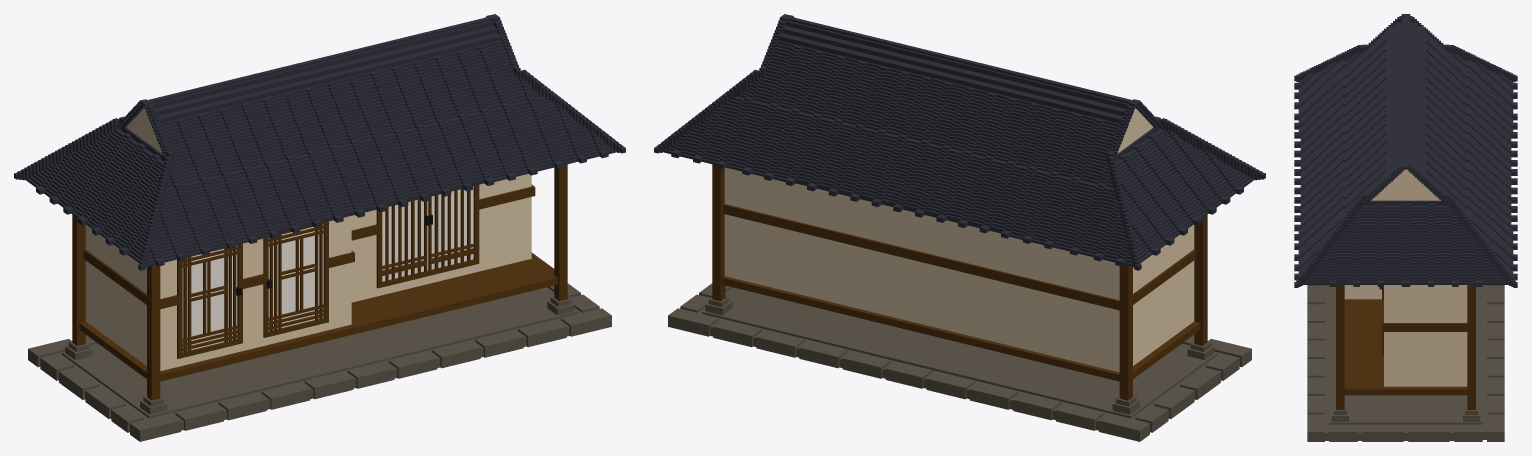
Rendered from house1.glb.
3 views of the same model, side by side, from view 1: azimuth 30°, elevation 25°; view 2: azimuth 150°, elevation 25°; view 3: azimuth 270°, elevation 25° (orthographic). The views are drawn at different scales.
Visible parts, largest first — view 1: Voxel_Korean_traditional village-35; view 2: Voxel_Korean_traditional village-35; view 3: Voxel_Korean_traditional village-35.
Part boxes in pixels (<box>): Voxel_Korean_traditional village-35: <box>14,14,625,441</box>; Voxel_Korean_traditional village-35: <box>654,14,1265,441</box>; Voxel_Korean_traditional village-35: <box>1294,14,1517,441</box>.
Bounding box in the file's own units: 225 × 126 × 102.
2 materials, 2 textured.
